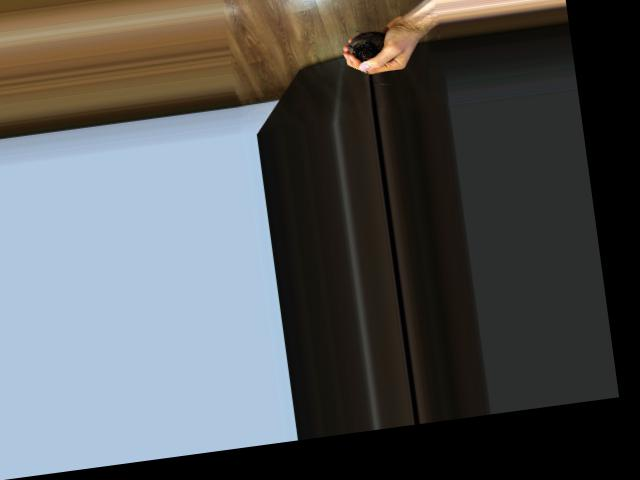beet: (345, 29, 392, 90)
